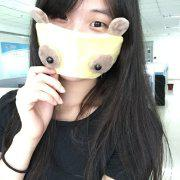WRONG: (44, 7, 122, 85)
